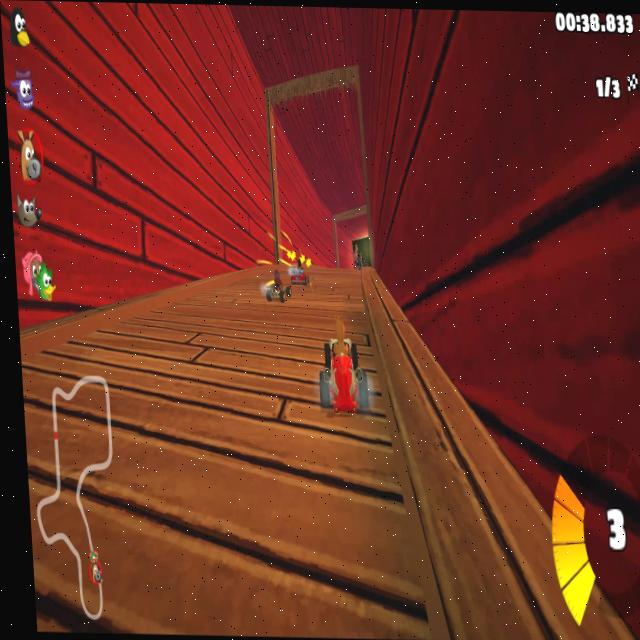enemy_kart: (286, 256, 314, 292), (263, 272, 291, 303)
player_kart: (311, 330, 372, 413)
track: (20, 338, 326, 623), (314, 419, 455, 640), (82, 319, 266, 334), (267, 308, 377, 329), (89, 313, 262, 326), (204, 271, 261, 310), (69, 333, 266, 342), (297, 291, 372, 314), (315, 263, 364, 298), (160, 289, 205, 312)
